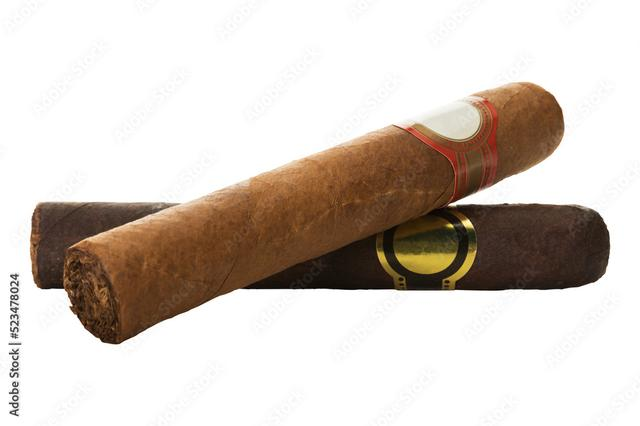Cigar: (58, 78, 566, 344), (25, 201, 611, 292)
